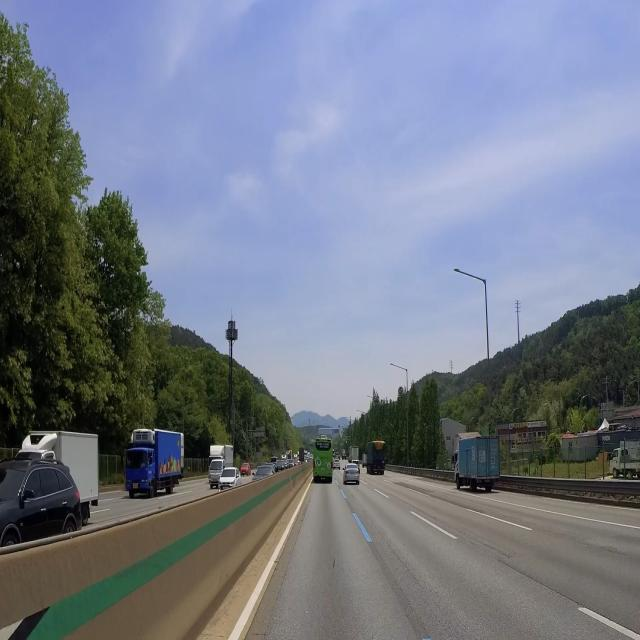car: (347, 471, 357, 480), (319, 466, 327, 472)
